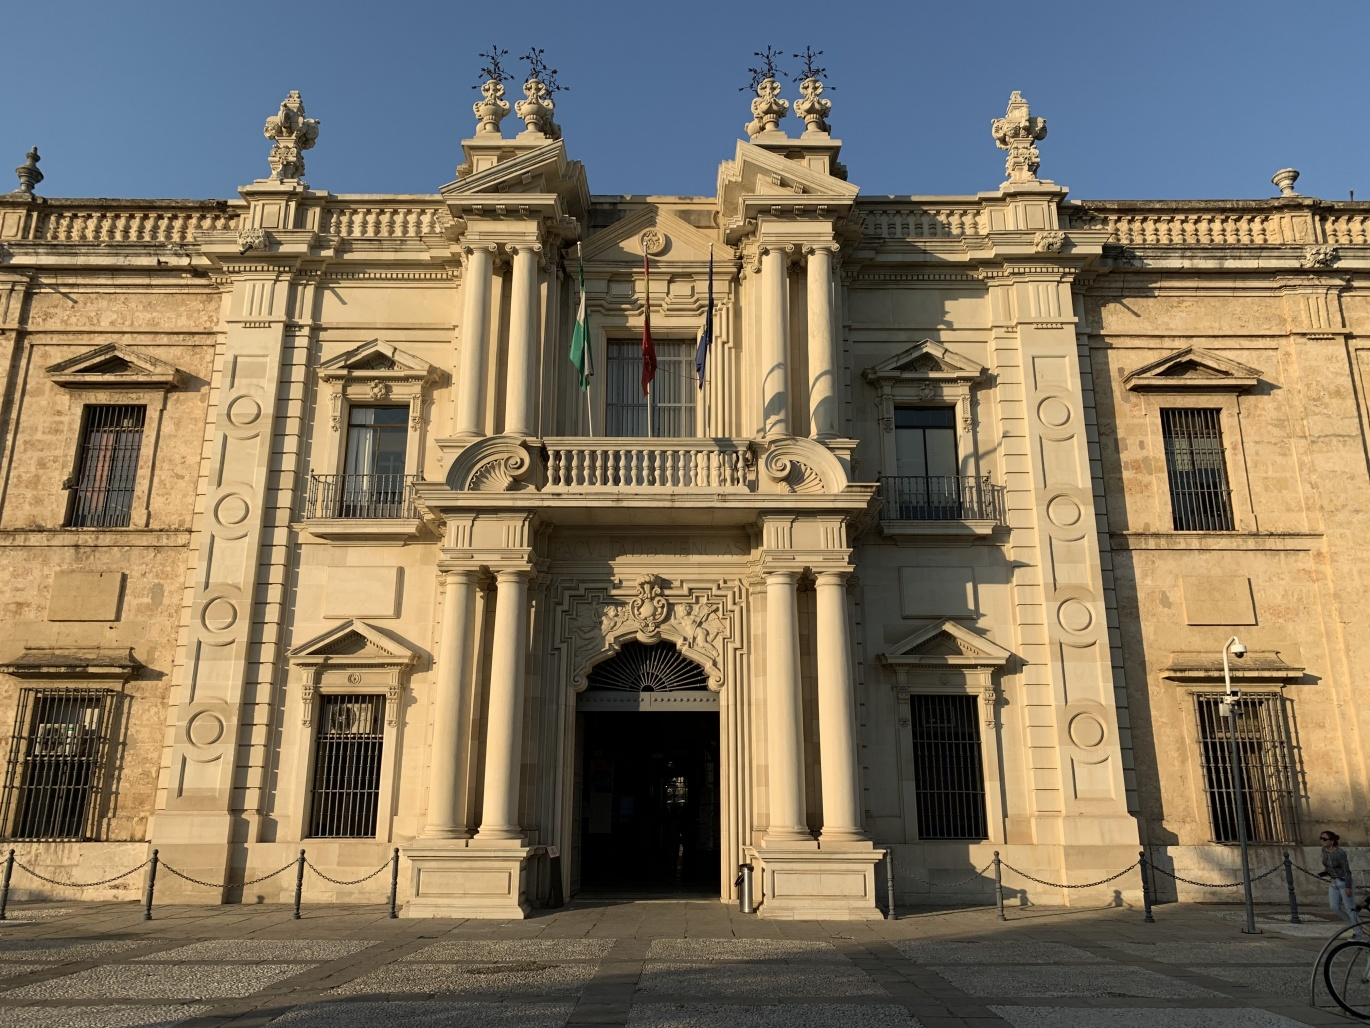fronton: (564, 202, 743, 278), (1127, 343, 1269, 397), (287, 617, 428, 669), (885, 616, 1018, 669), (45, 341, 184, 392), (870, 336, 996, 384), (317, 337, 444, 385)
fronton-partido: (428, 125, 876, 218), (442, 430, 855, 517)
vano-adintelado: (1168, 672, 1329, 857), (1, 666, 143, 844), (290, 677, 410, 836), (904, 672, 1010, 844), (592, 305, 713, 451), (48, 385, 173, 524), (1151, 396, 1258, 531), (883, 385, 986, 519), (325, 389, 425, 519)
